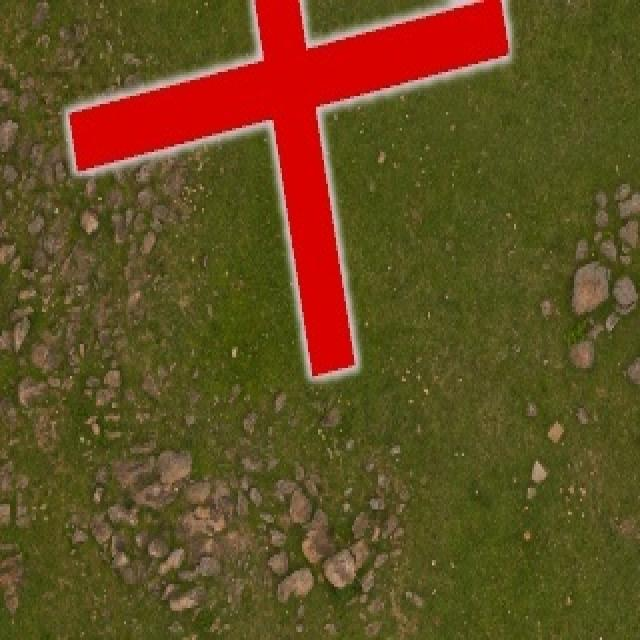x_marker: (67, 0, 507, 376)
